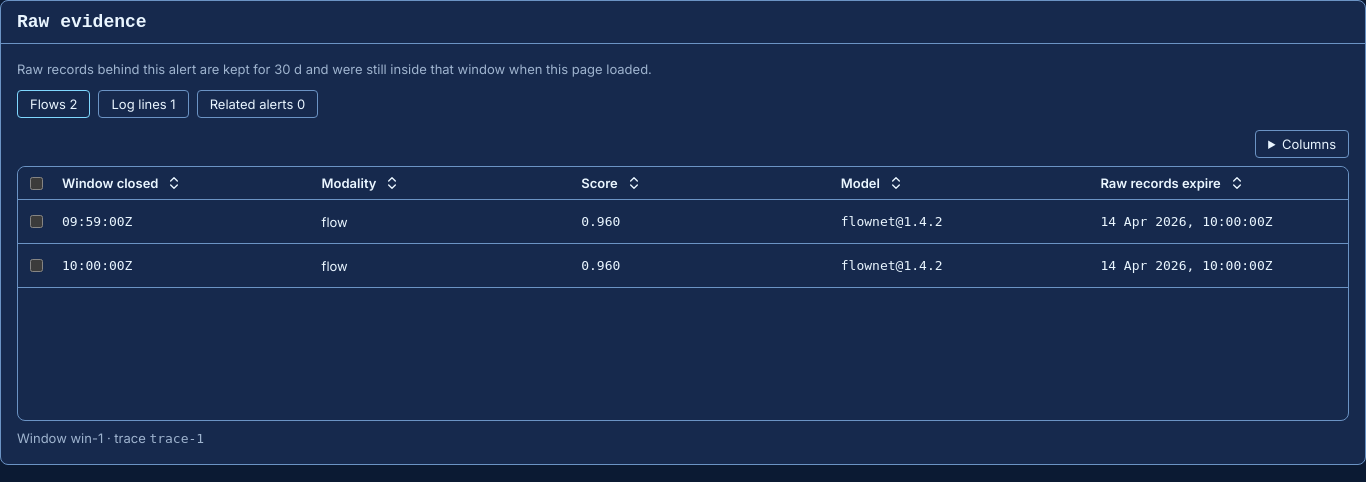
EvidencePanel › shows the windows of the selected modality
The width and height of the screenshot is (1366, 482).
Expected: the number of rows is 3, [30,174,1245,192]; [18,200,1348,244]; [18,244,1348,288]
Expected: the text "09:59:00Z" is shown, [62,214,132,229]
Click the tab "Log lines 1". click: point(144, 104)
box: [98,90,189,118]
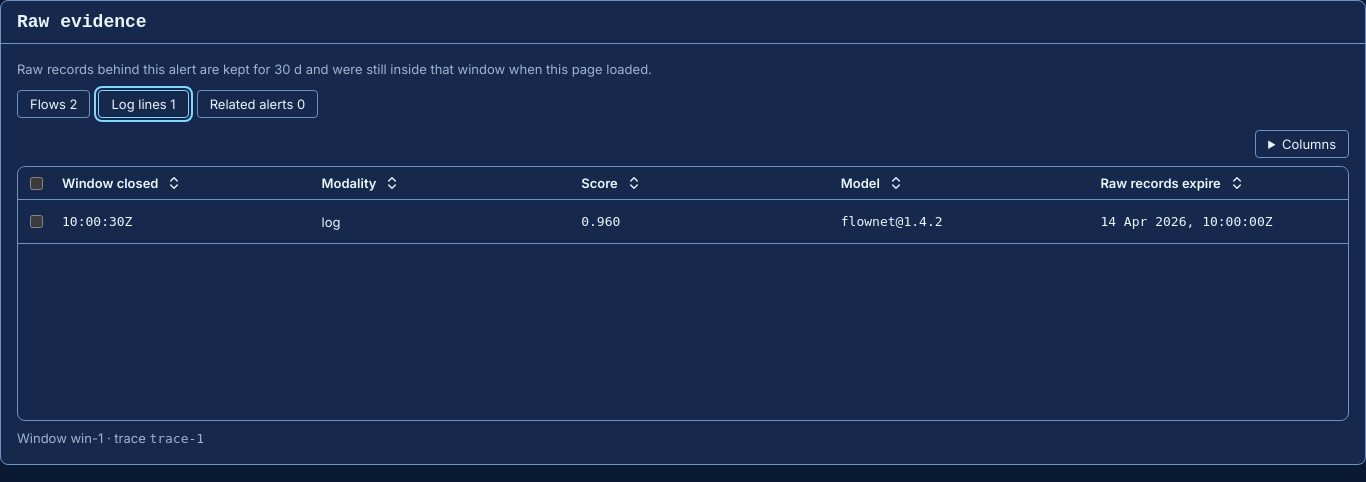
Expected: the text "10:00:30Z" is shown, [62,214,132,229]
